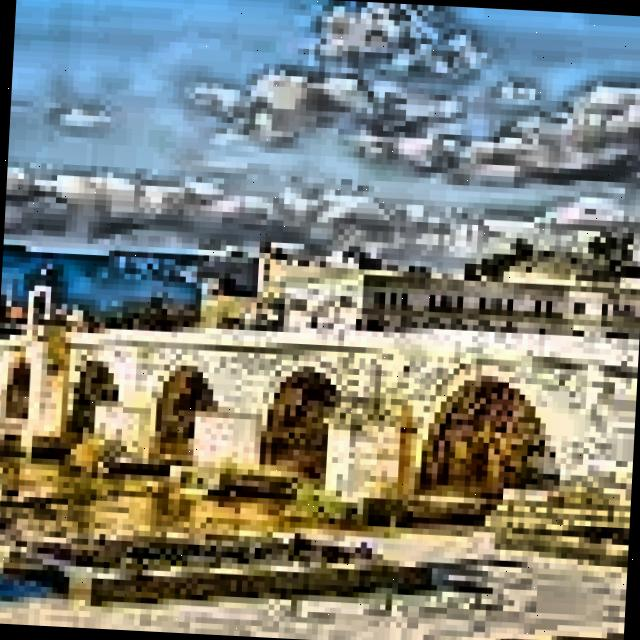stone bridge: (0, 304, 639, 524)
